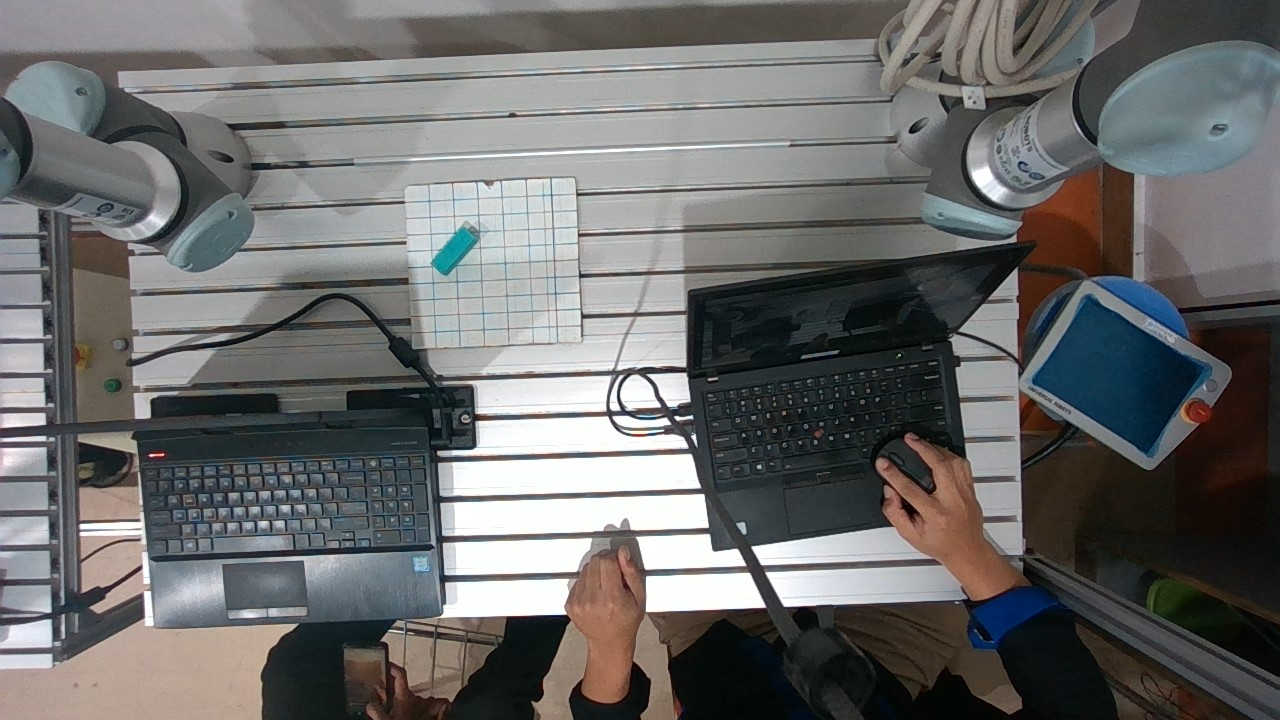box: (430, 227, 487, 271)
